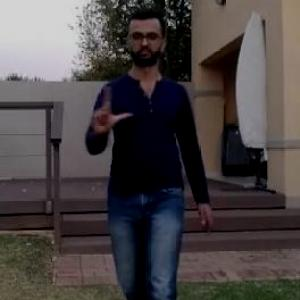land_hand: (82, 78, 136, 136)
